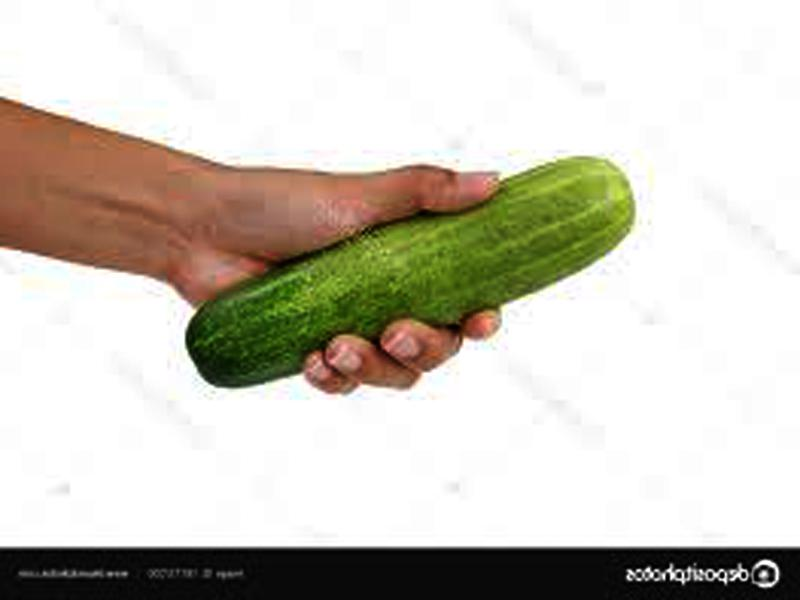Cucumber: (185, 153, 632, 384)
